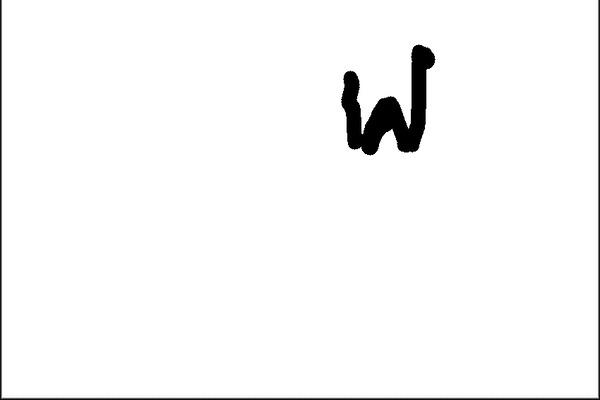w: (307, 36, 466, 166)
